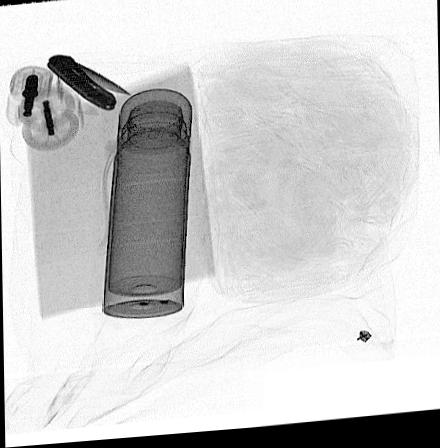Knife: (44, 51, 131, 115)
